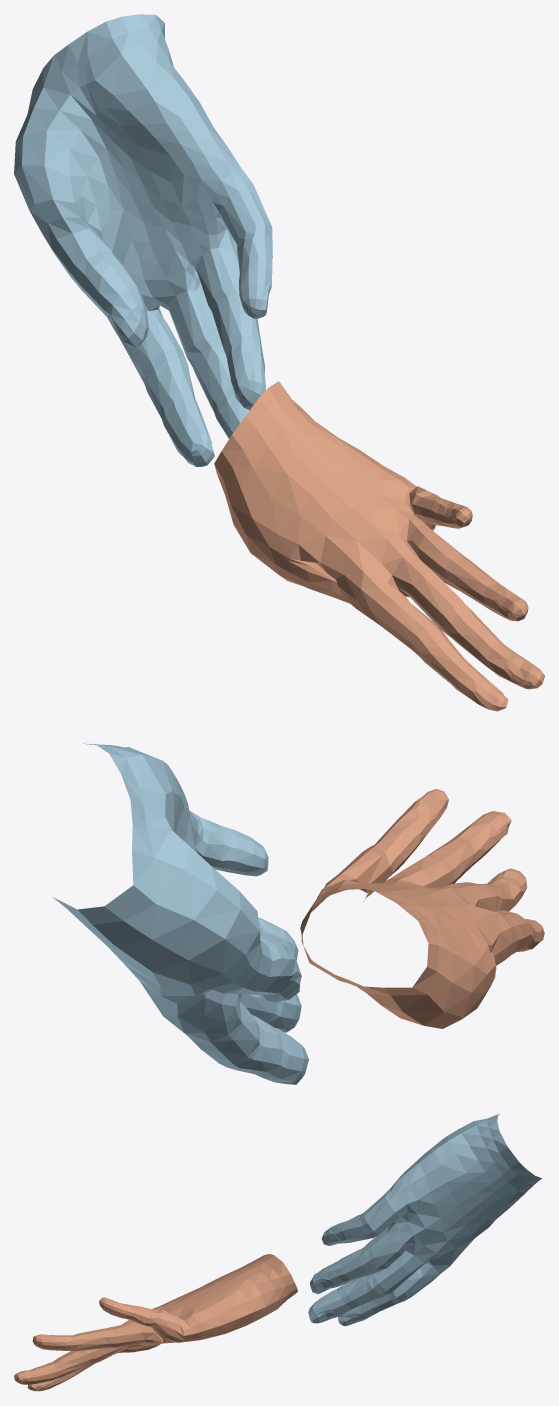
The model's file is frame_020.glb.
The picture shows the model from 3 angles, top to bottom: view 1: azimuth 30°, elevation 25°; view 2: azimuth 150°, elevation 25°; view 3: azimuth 270°, elevation 25°; orthographic projection. The views are drawn at different scales.
Parts seen in each view (by area): view 1: world; view 2: world; view 3: world.
Boxes of the visible parts, x1=… form: world: x1=14, y1=14, x2=544, y2=711; world: x1=53, y1=743, x2=544, y2=1084; world: x1=14, y1=1114, x2=541, y2=1391.
Bounding box in the file's own units: 0.0726 × 0.1718 × 0.3037.
